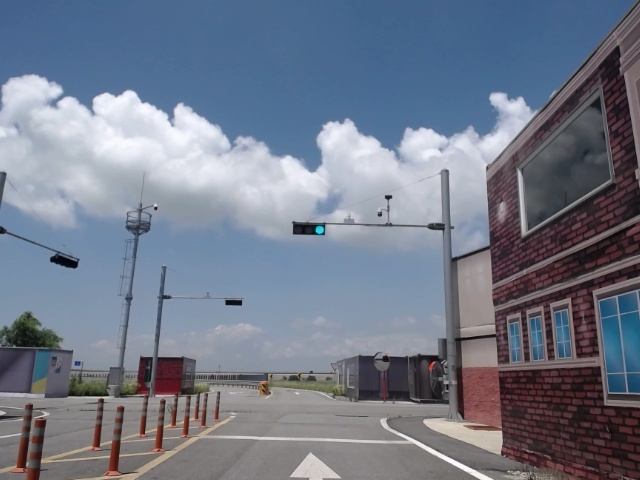green_3: (295, 224, 325, 235)
